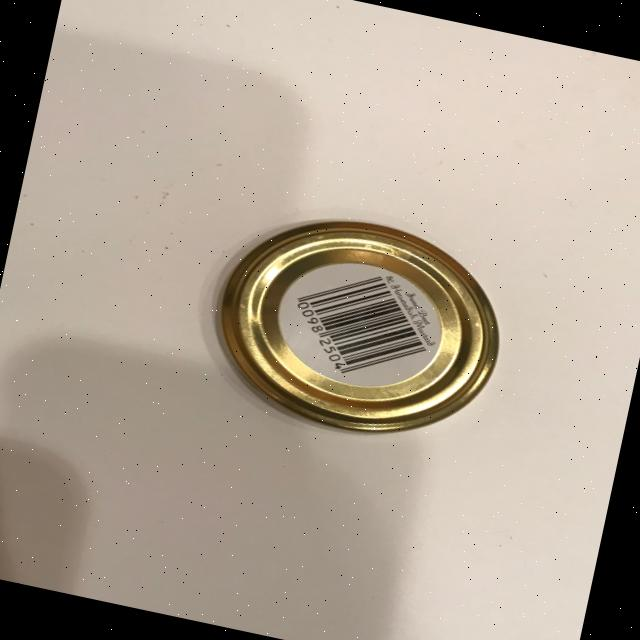metal: (198, 193, 520, 458)
